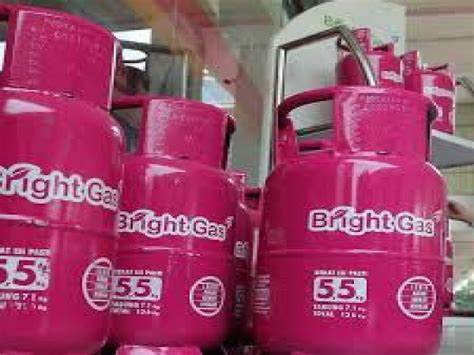bright_gas: (255, 89, 444, 355), (1, 4, 127, 355), (107, 94, 237, 355), (337, 29, 378, 94), (424, 59, 456, 135), (405, 51, 438, 107), (373, 43, 404, 100)
